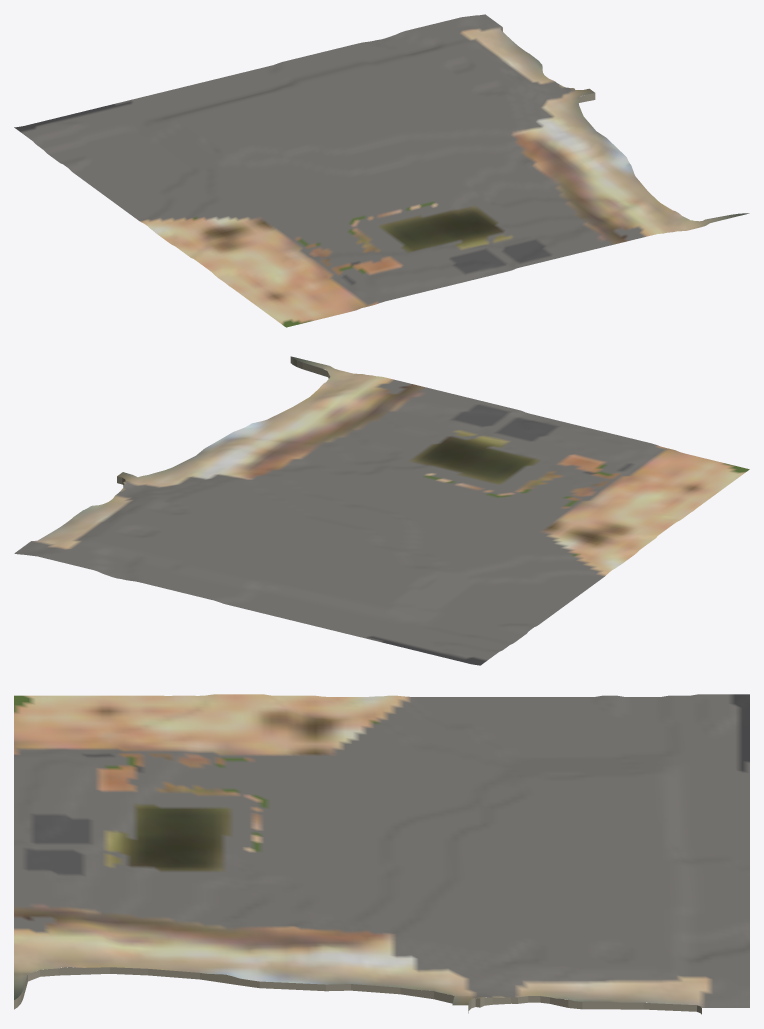
The model's file is terrain.glb.
The picture shows the model from 3 angles, top to bottom: view 1: azimuth 30°, elevation 25°; view 2: azimuth 150°, elevation 25°; view 3: azimuth 270°, elevation 25°; orthographic projection. The views are drawn at different scales.
Parts seen in each view (by area): view 1: T_E1_N4_terrain; view 2: T_E1_N4_terrain; view 3: T_E1_N4_terrain.
Boxes of the visible parts, x1,y1,x2,y2 form: T_E1_N4_terrain: (14, 14, 749, 327); T_E1_N4_terrain: (14, 356, 749, 665); T_E1_N4_terrain: (14, 694, 749, 1014).
Bounding box in the file's own units: 500 × 9 × 500.
